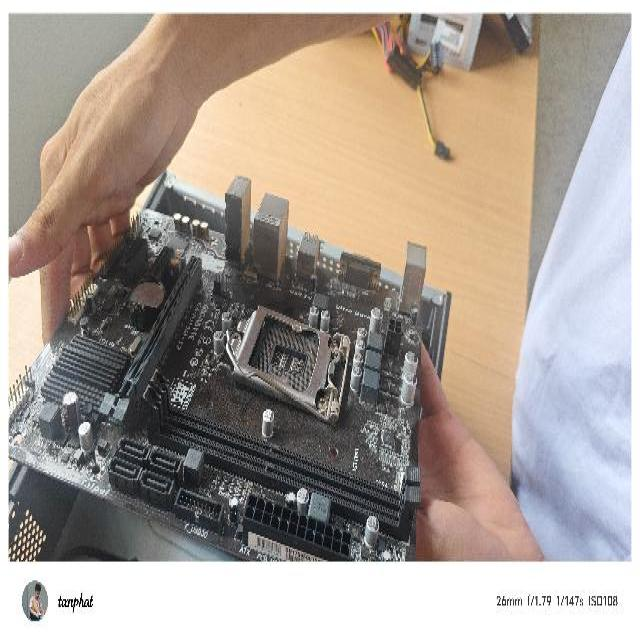Mainboard: (9, 152, 428, 563)
